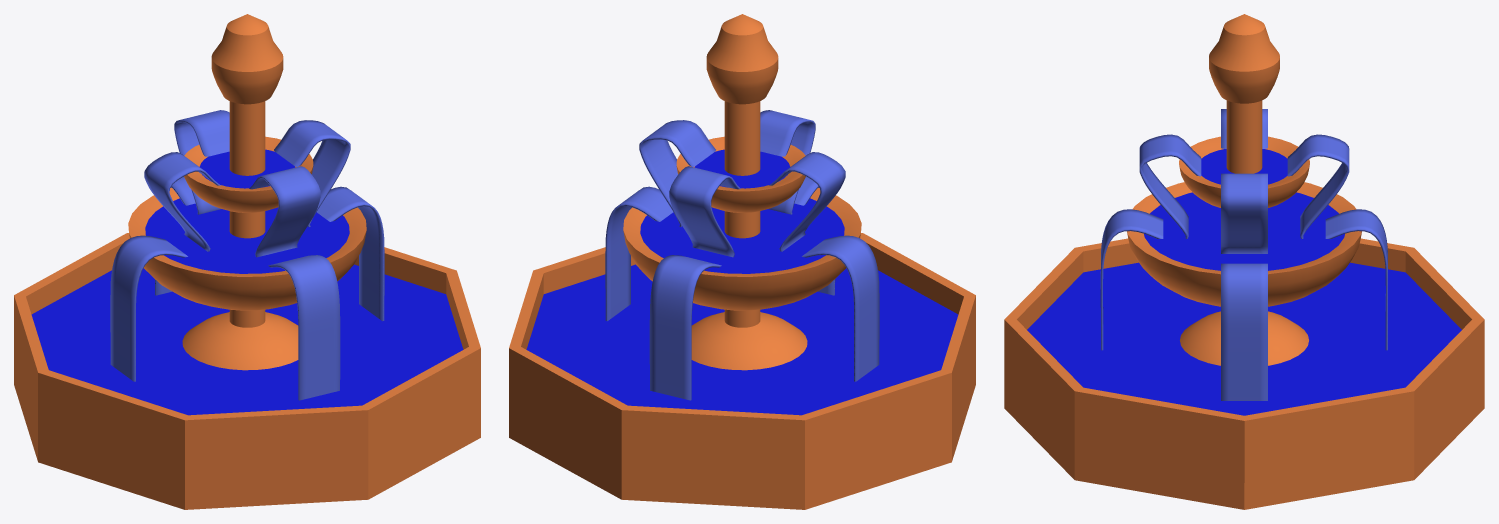
The model's file is Fountain.fbx.
3 renders of one model, left to right at view 1: azimuth 30°, elevation 25°; view 2: azimuth 150°, elevation 25°; view 3: azimuth 270°, elevation 25°, orthographic.
Parts seen in each view (by area): view 1: Fountain, Water, Cascades; view 2: Fountain, Water, Cascades; view 3: Fountain, Water, Cascades.
Boxes of the visible parts, <box> form: Fountain: <box>14,14,480,509</box>; Water: <box>31,149,463,415</box>; Cascades: <box>110,110,384,400</box>; Fountain: <box>509,14,975,509</box>; Water: <box>526,149,958,415</box>; Cascades: <box>605,110,879,400</box>; Fountain: <box>1004,14,1484,509</box>; Water: <box>1027,149,1461,415</box>; Cascades: <box>1100,109,1387,400</box>.
Size of the model in its own units: 1056 by 958 by 1056.
